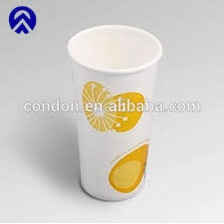paper_cup: (61, 20, 167, 205)
